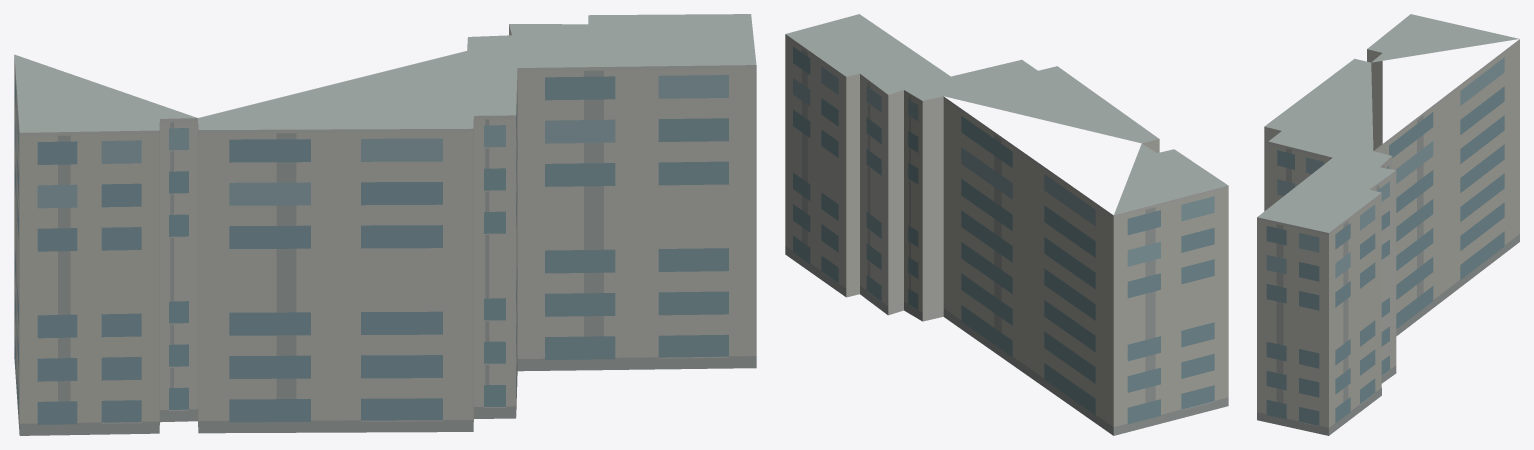
Rendered from survey-upis-32993666.glb.
3 renders of one model, left to right at view 1: azimuth 30°, elevation 25°; view 2: azimuth 150°, elevation 25°; view 3: azimuth 270°, elevation 25°, orthographic. The views are drawn at different scales.
Parts seen in each view (by area): view 1: survey-upis-32993666.tmp; view 2: survey-upis-32993666.tmp; view 3: survey-upis-32993666.tmp.
Part boxes in pixels (x1,y1,x2,y2): survey-upis-32993666.tmp: (14, 14, 756, 435); survey-upis-32993666.tmp: (785, 14, 1228, 435); survey-upis-32993666.tmp: (1257, 14, 1519, 435).
Bounding box in the file's own units: 46.75 × 20.2 × 23.72.
